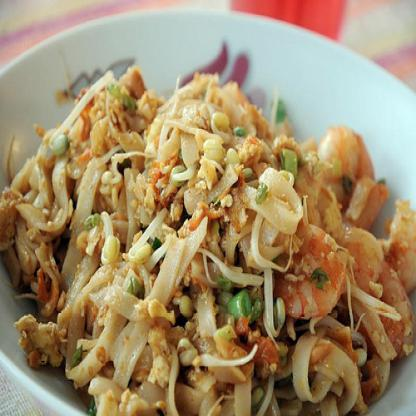Pad Thai: (0, 61, 414, 415)
